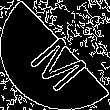M_NE: (19, 21, 91, 89)
